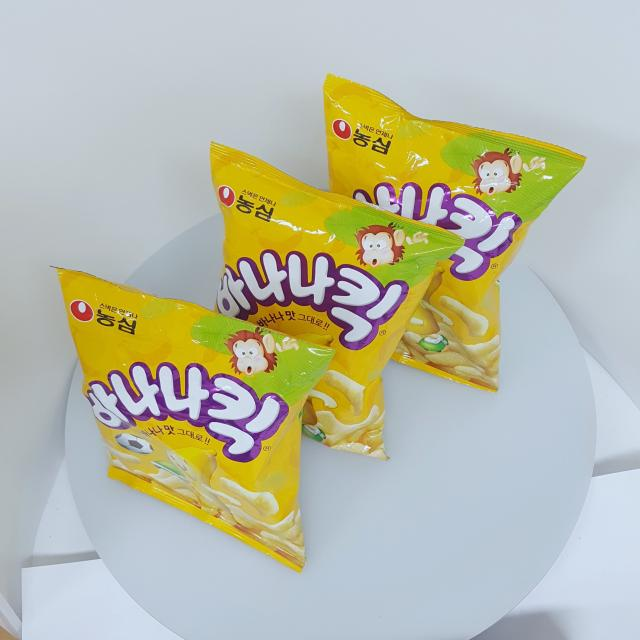-75G: (50, 265, 338, 575), (323, 74, 588, 394), (211, 142, 467, 462)
